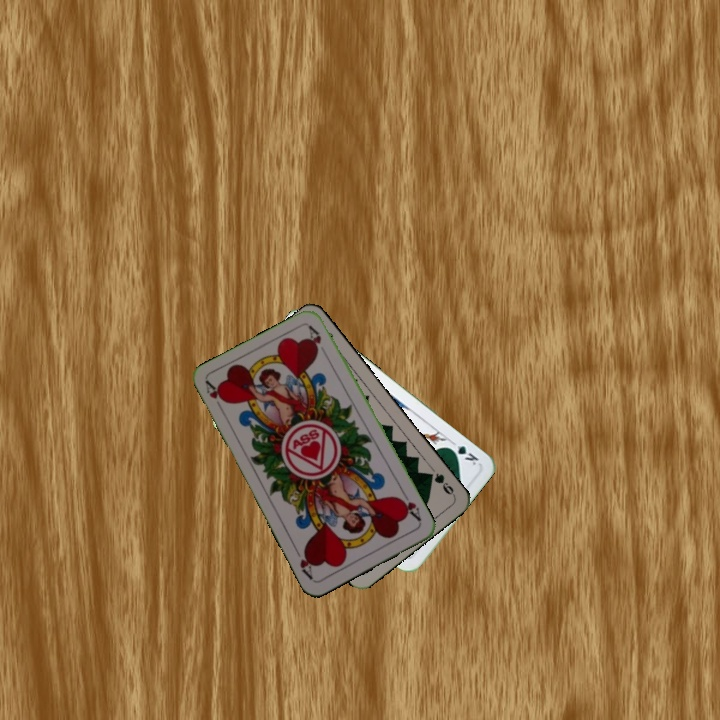G9: (423, 469, 457, 499)
GK: (444, 437, 481, 468)
HA: (394, 487, 424, 525), (201, 378, 229, 416)
